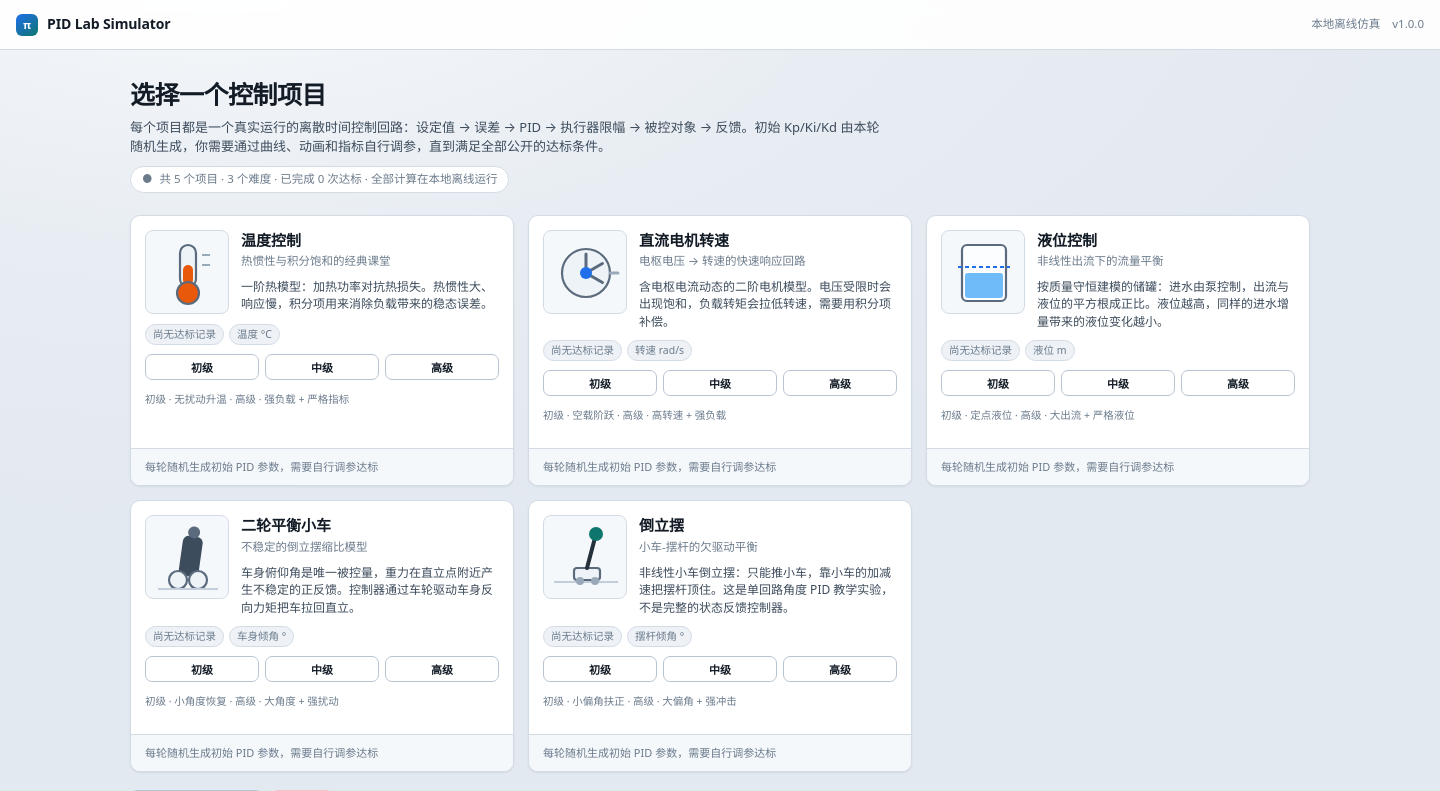
Test: application flow › starting and pausing switches the toolbar state machine
Click the button with test id "start-dc-motor-beginner": (600, 383) [543, 370, 657, 396]
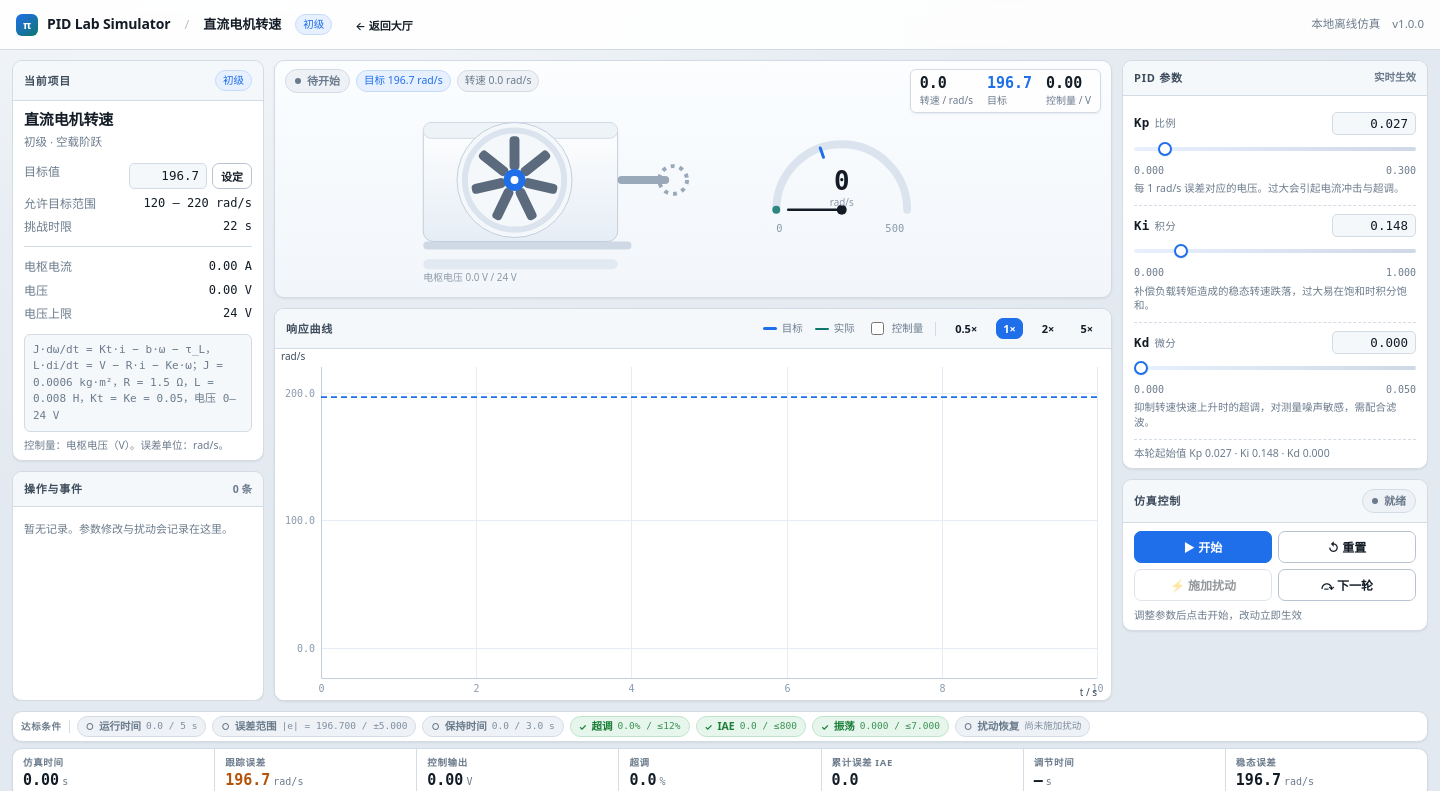
expect the button with test id "btn-start" is enabled: met
Click the button with test id "btn-start": (1203, 547) [1134, 531, 1272, 563]
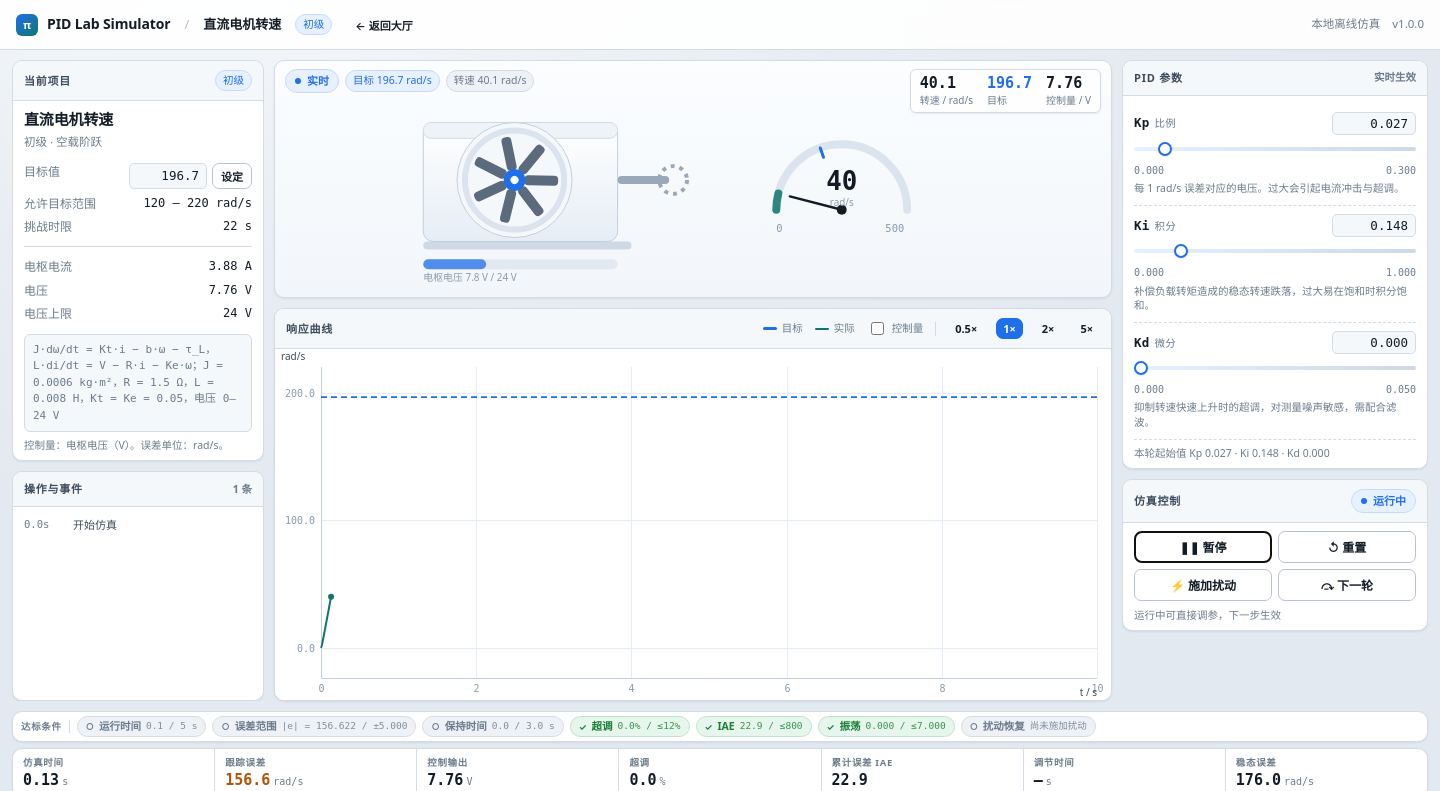
expect the button with test id "btn-pause" is shown: met
Click the button with test id "btn-pause": (1203, 547) [1134, 531, 1272, 563]
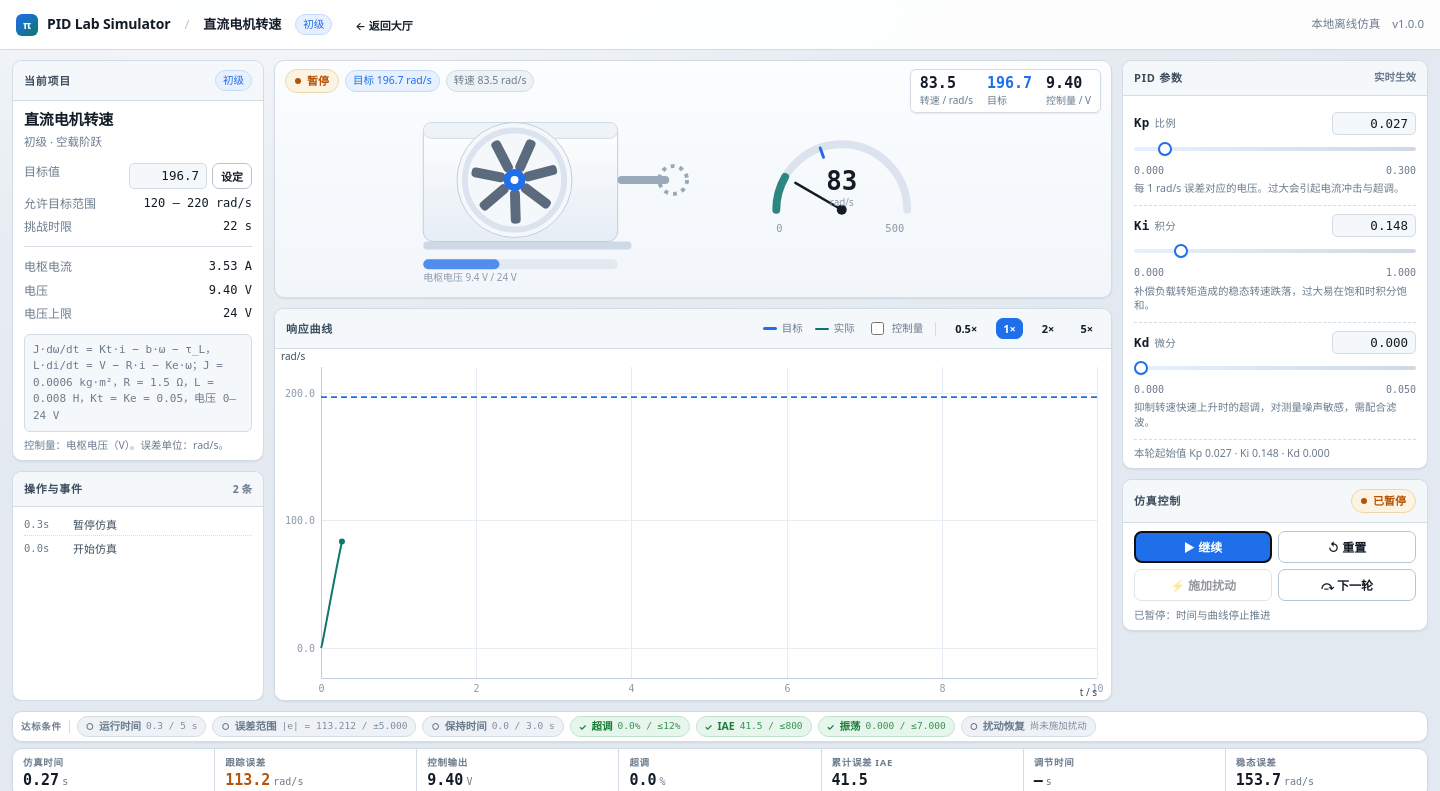
expect the button with test id "btn-start" shows "继续": met, box [1134, 531, 1272, 563]
